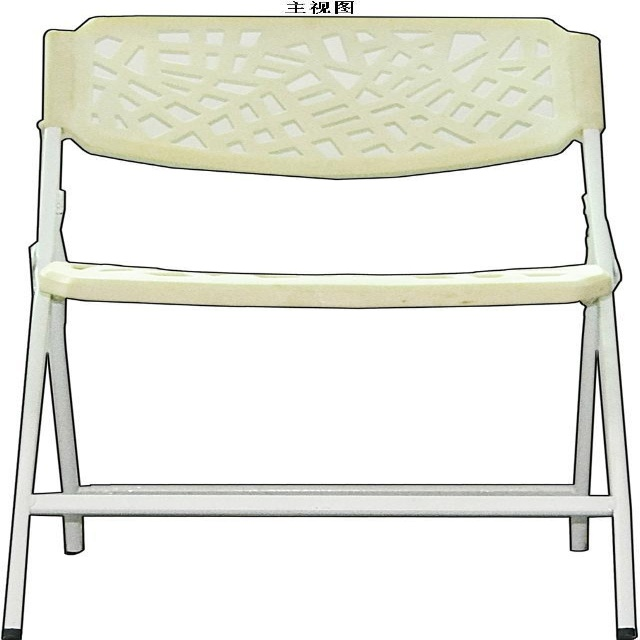obstacle: (4, 16, 636, 639)
